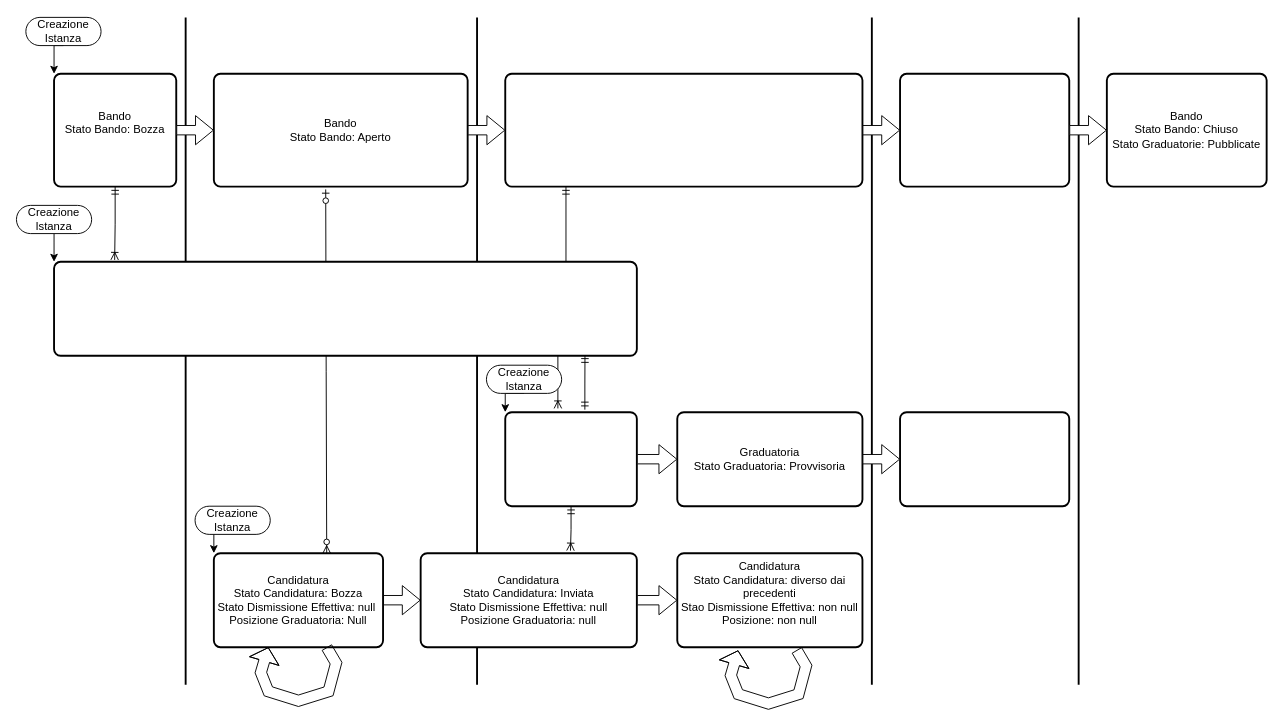
The diagram is 1284 pixels wide and 726 high, and some of its shapes have lost their labels. The centre of each missing label's shape, as x and y in pixels:
"Bando Stato Bando: Chiuso Stato Graduatorie: Da Calcolare" belongs at (683,129).
"Bando Stato Bando: Chiuso Stato Graduatorie:Provvisorie" belongs at (984,129).
"Graduatoria Stato Graduatoria: Da Calcolare" belongs at (570,459).
"Graduatoria Stato Graduatoria: Definitiva" belongs at (984,459).
"Raggruppamento Asset" belongs at (345,308).
